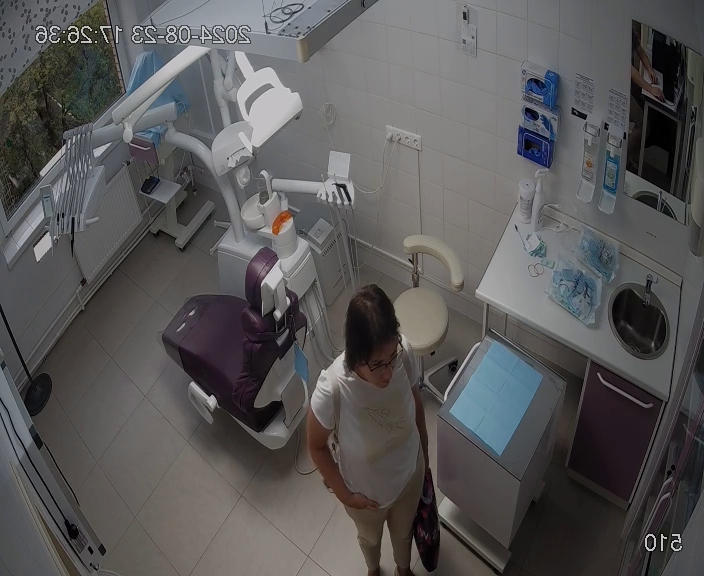Empty: (158, 249, 324, 458)
